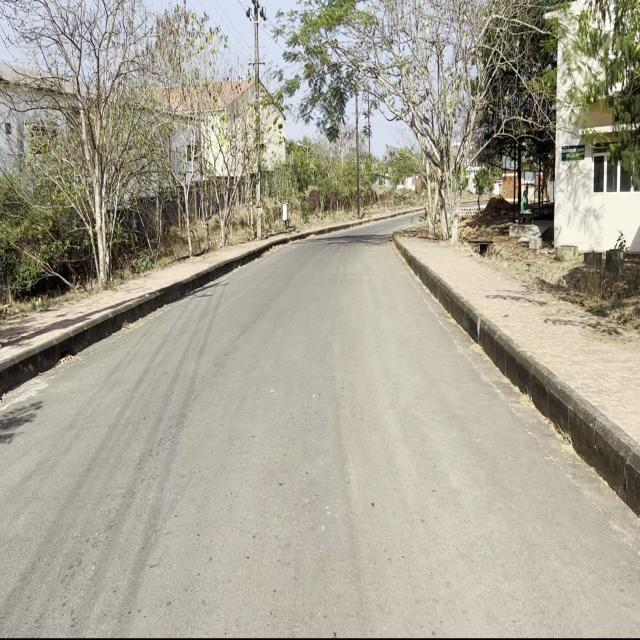Road: (3, 226, 637, 631)
